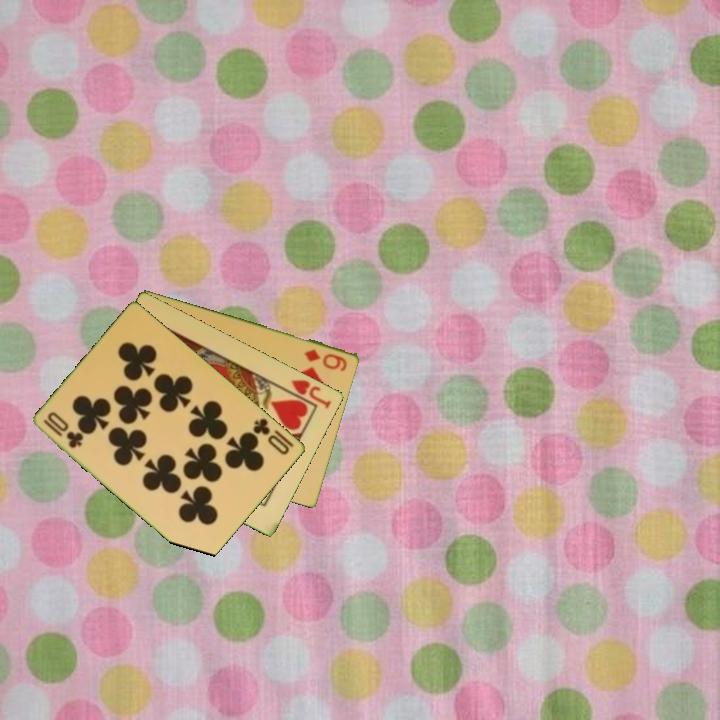10c: (40, 408, 87, 451), (250, 414, 293, 458)
6d: (301, 345, 350, 374)
Jh: (279, 376, 334, 412)
